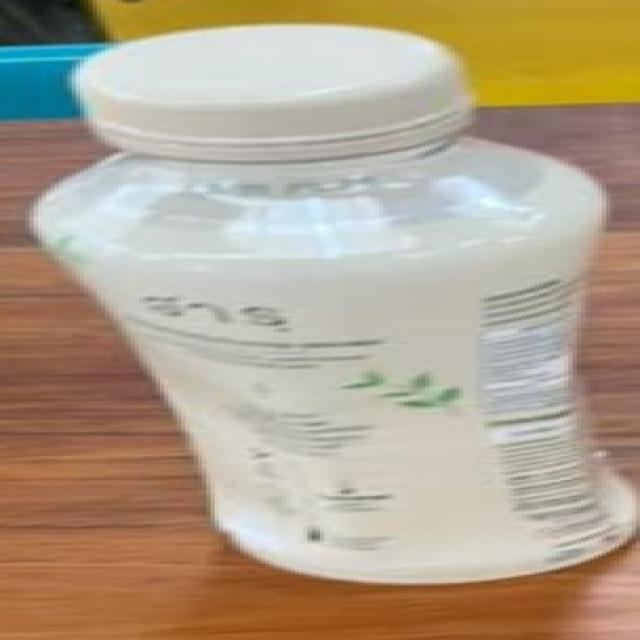plastic bottle: (27, 0, 640, 595)
